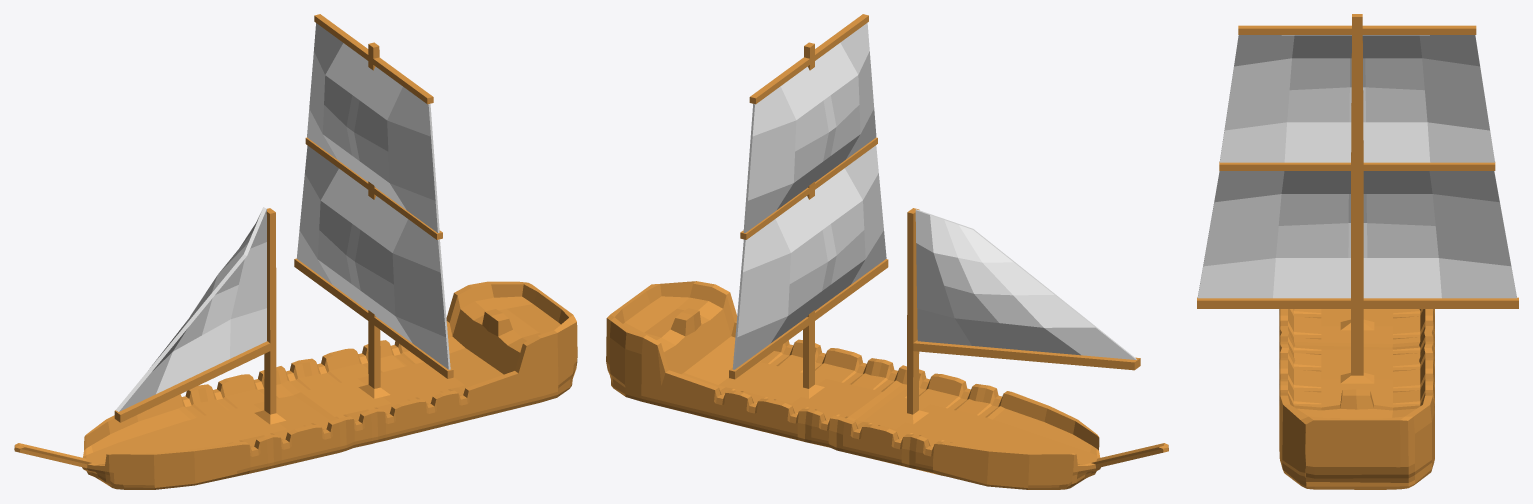
The model's file is corvette.glb.
3 views of the same model, side by side, from view 1: azimuth 30°, elevation 25°; view 2: azimuth 150°, elevation 25°; view 3: azimuth 270°, elevation 25° (orthographic). The views are drawn at different scales.
Parts seen in each view (by area): view 1: Cube; view 2: Cube; view 3: Cube.
Part boxes in pixels (x1,y1,x2,y2): Cube: (14,14,577,489); Cube: (606,14,1168,489); Cube: (1197,14,1518,489).
Bounding box in the file's own units: 33.07 × 21.92 × 16.29.
